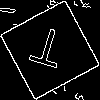T: (25, 25, 68, 78)
